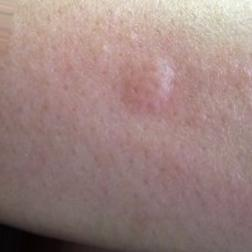Mosquito: (122, 60, 174, 110)
